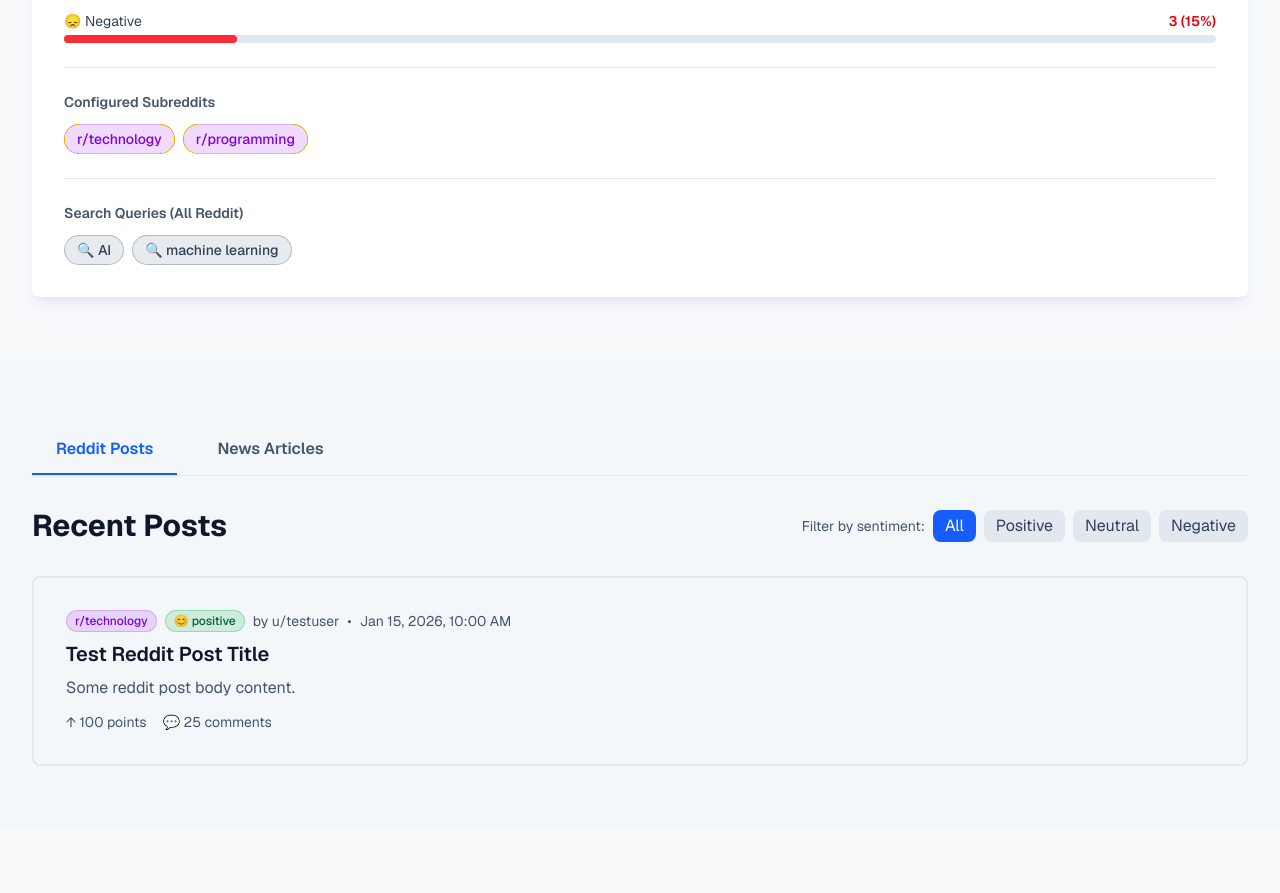
Test: Data Pipelines page › switches to the Articles tab and loads article content
The image size is (1280, 893).
(page scrolled)
Expected: the link "Test Reddit Post Title" is shown, [66,641,269,667]
What coordinates should you click on to do the following:
click the button "News Articles"
I would click on:
 (270, 450)
Its box is [193,425,348,475].
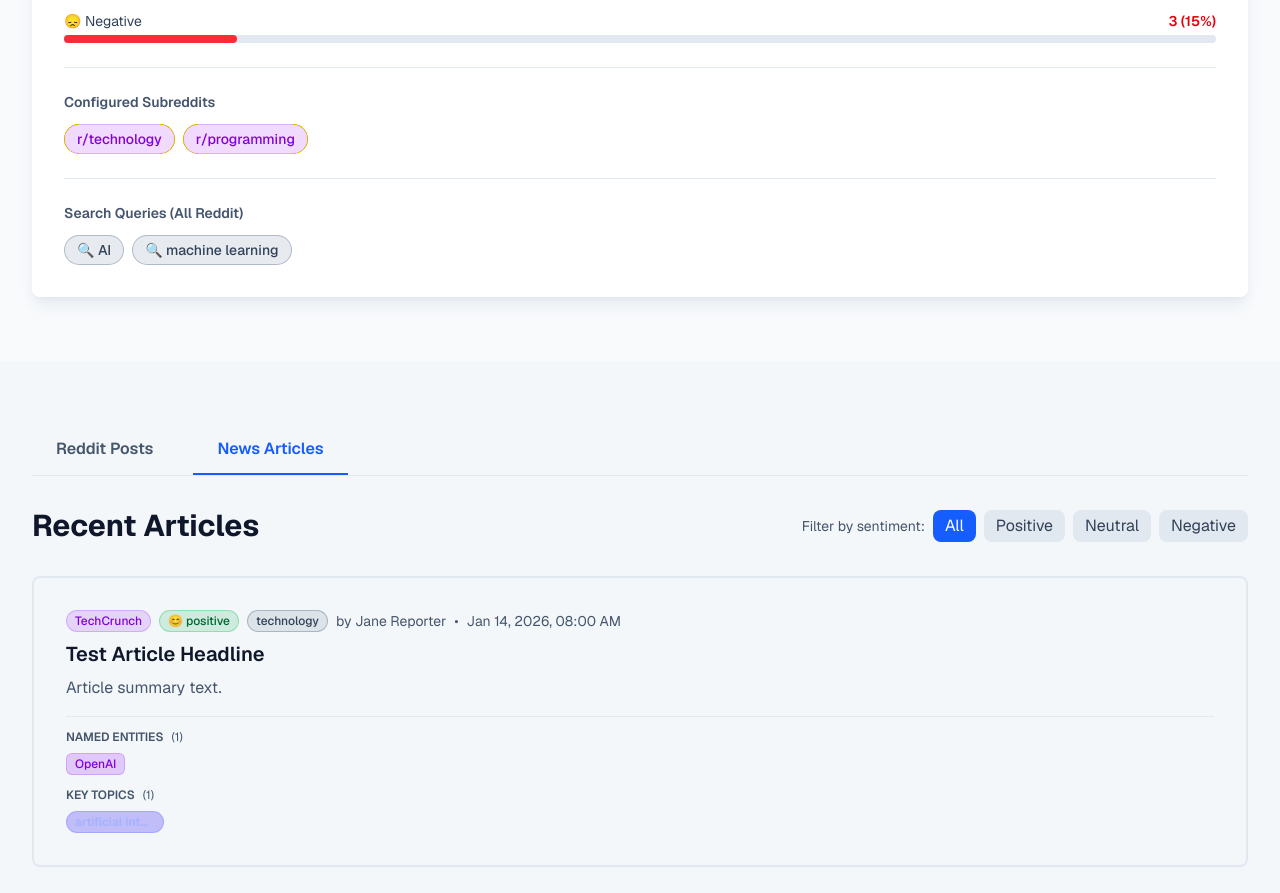
Expected: the link "Test Article Headline" is shown, [66,641,264,667]
Expected: the heading "Recent Articles" is shown, [32,508,259,544]
